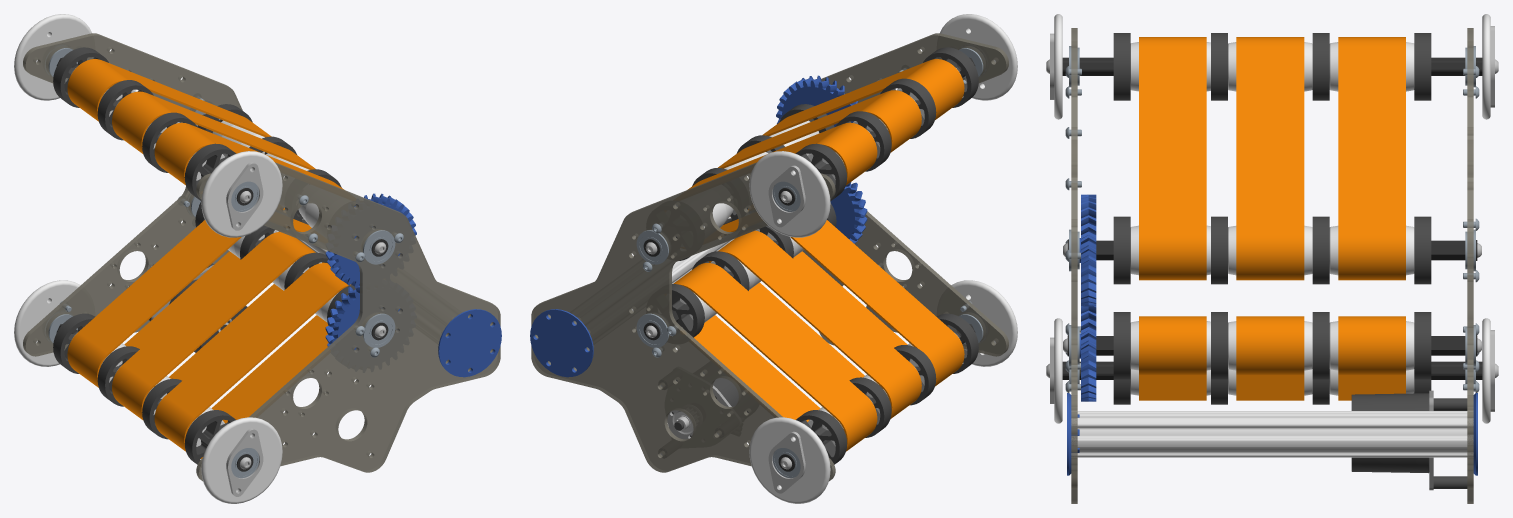
The picture shows the model from 3 angles, left to right: view 1: azimuth 30°, elevation 25°; view 2: azimuth 150°, elevation 25°; view 3: azimuth 270°, elevation 25°; orthographic projection. The views are drawn at different scales.
Parts seen in each view (by area): view 1: 930-23-P-0520 (×6), 930-23-P-0517 (×2), 930-23-P-0521 (×4), 2" 1/2" Hex Bore Flex Wheel (WCP-0133) (×9), MAXSpline Endcap, 930-23-P-0518 (×2), BearingRetentionPart (×2), .5" Hex ID 1.125" OD Flanged Bearing (217-2734) (×2); view 2: 930-23-P-0520 (×6), 930-23-P-0517 (×2), 930-23-P-0521 (×4), 2" 1/2" Hex Bore Flex Wheel (WCP-0133) (×10), MAXSpline Endcap, 930-23-P-0518 (×2), BearingRetentionPart (×2), .5" Hex ID 1.125" OD Flanged Bearing (217-2734) (×2), MAXSpline Shaft 11.875", NEO Brushless Motor (REV-21-1650); view 3: 930-23-P-0520 (×6), MAXSpline Shaft 11.875", 2" 1/2" Hex Bore Flex Wheel (WCP-0133) (×12), 930-23-P-0519 (×9), 930-23-P-0517 (×2), Shaft (×4), 930-23-P-0521 (×4), 930-23-P-0518 (×2), NEO Brushless Motor (REV-21-1650).
Boxes of the visible parts, x1,y1,x2,y2 form: 930-23-P-0520 (×6): (67, 59, 351, 458); 930-23-P-0517 (×2): (23, 33, 500, 481); 930-23-P-0521 (×4): (14, 14, 282, 503); 2" 1/2" Hex Bore Flex Wheel (WCP-0133) (×9): (53, 47, 328, 464); MAXSpline Endcap: (438, 309, 501, 377); 930-23-P-0518 (×2): (325, 193, 416, 350); BearingRetentionPart (×2): (226, 162, 263, 496); .5" Hex ID 1.125" OD Flanged Bearing (217-2734) (×2): (363, 230, 395, 347); 930-23-P-0520 (×6): (673, 59, 964, 451); 930-23-P-0517 (×2): (531, 33, 1008, 481); 930-23-P-0521 (×4): (749, 14, 1017, 503); 2" 1/2" Hex Bore Flex Wheel (WCP-0133) (×10): (649, 47, 978, 464); MAXSpline Endcap: (530, 309, 593, 377); 930-23-P-0518 (×2): (776, 75, 867, 243); BearingRetentionPart (×2): (768, 165, 805, 493); .5" Hex ID 1.125" OD Flanged Bearing (217-2734) (×2): (636, 230, 668, 347); MAXSpline Shaft 11.875": (631, 216, 734, 311); NEO Brushless Motor (REV-21-1650): (671, 371, 748, 436); 930-23-P-0520 (×6): (1139, 37, 1405, 400); MAXSpline Shaft 11.875": (1071, 411, 1473, 457); 2" 1/2" Hex Bore Flex Wheel (WCP-0133) (×12): (1113, 33, 1431, 379); 930-23-P-0519 (×9): (1130, 42, 1414, 370); 930-23-P-0517 (×2): (1071, 28, 1473, 503); Shaft (×4): (1046, 57, 1498, 379); 930-23-P-0521 (×4): (1054, 14, 1490, 423); 930-23-P-0518 (×2): (1079, 194, 1096, 401); NEO Brushless Motor (REV-21-1650): (1351, 393, 1429, 473).
Size of the model in its own units: 0.301 by 0.3371 by 0.3391.
